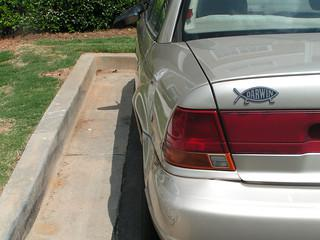quaterpanel-dent: (124, 38, 196, 134)
